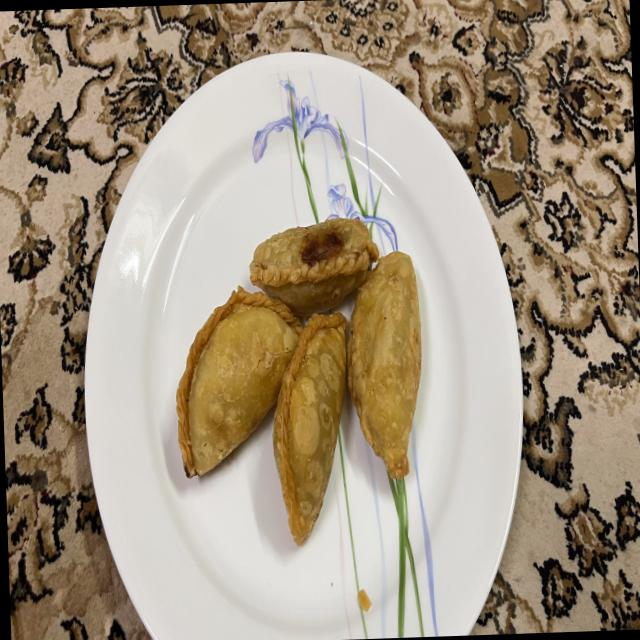karipap: (176, 287, 302, 476), (346, 251, 421, 478), (273, 313, 346, 545), (249, 217, 379, 316), (286, 397, 288, 399)
